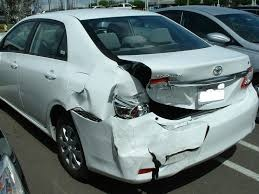Broken-glass: (110, 89, 151, 122)
Dent: (70, 67, 205, 182)
